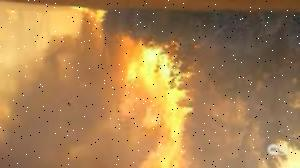fire: (120, 39, 194, 168)
